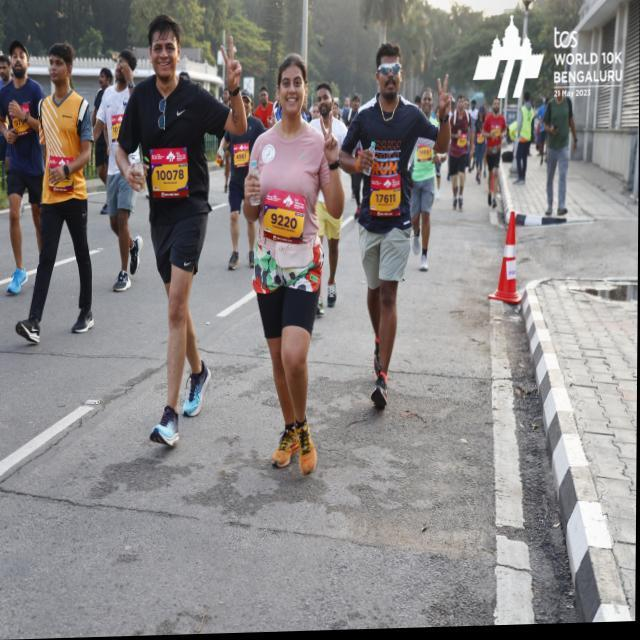dorsal: (261, 187, 312, 253), (149, 144, 194, 206), (368, 178, 402, 222)
